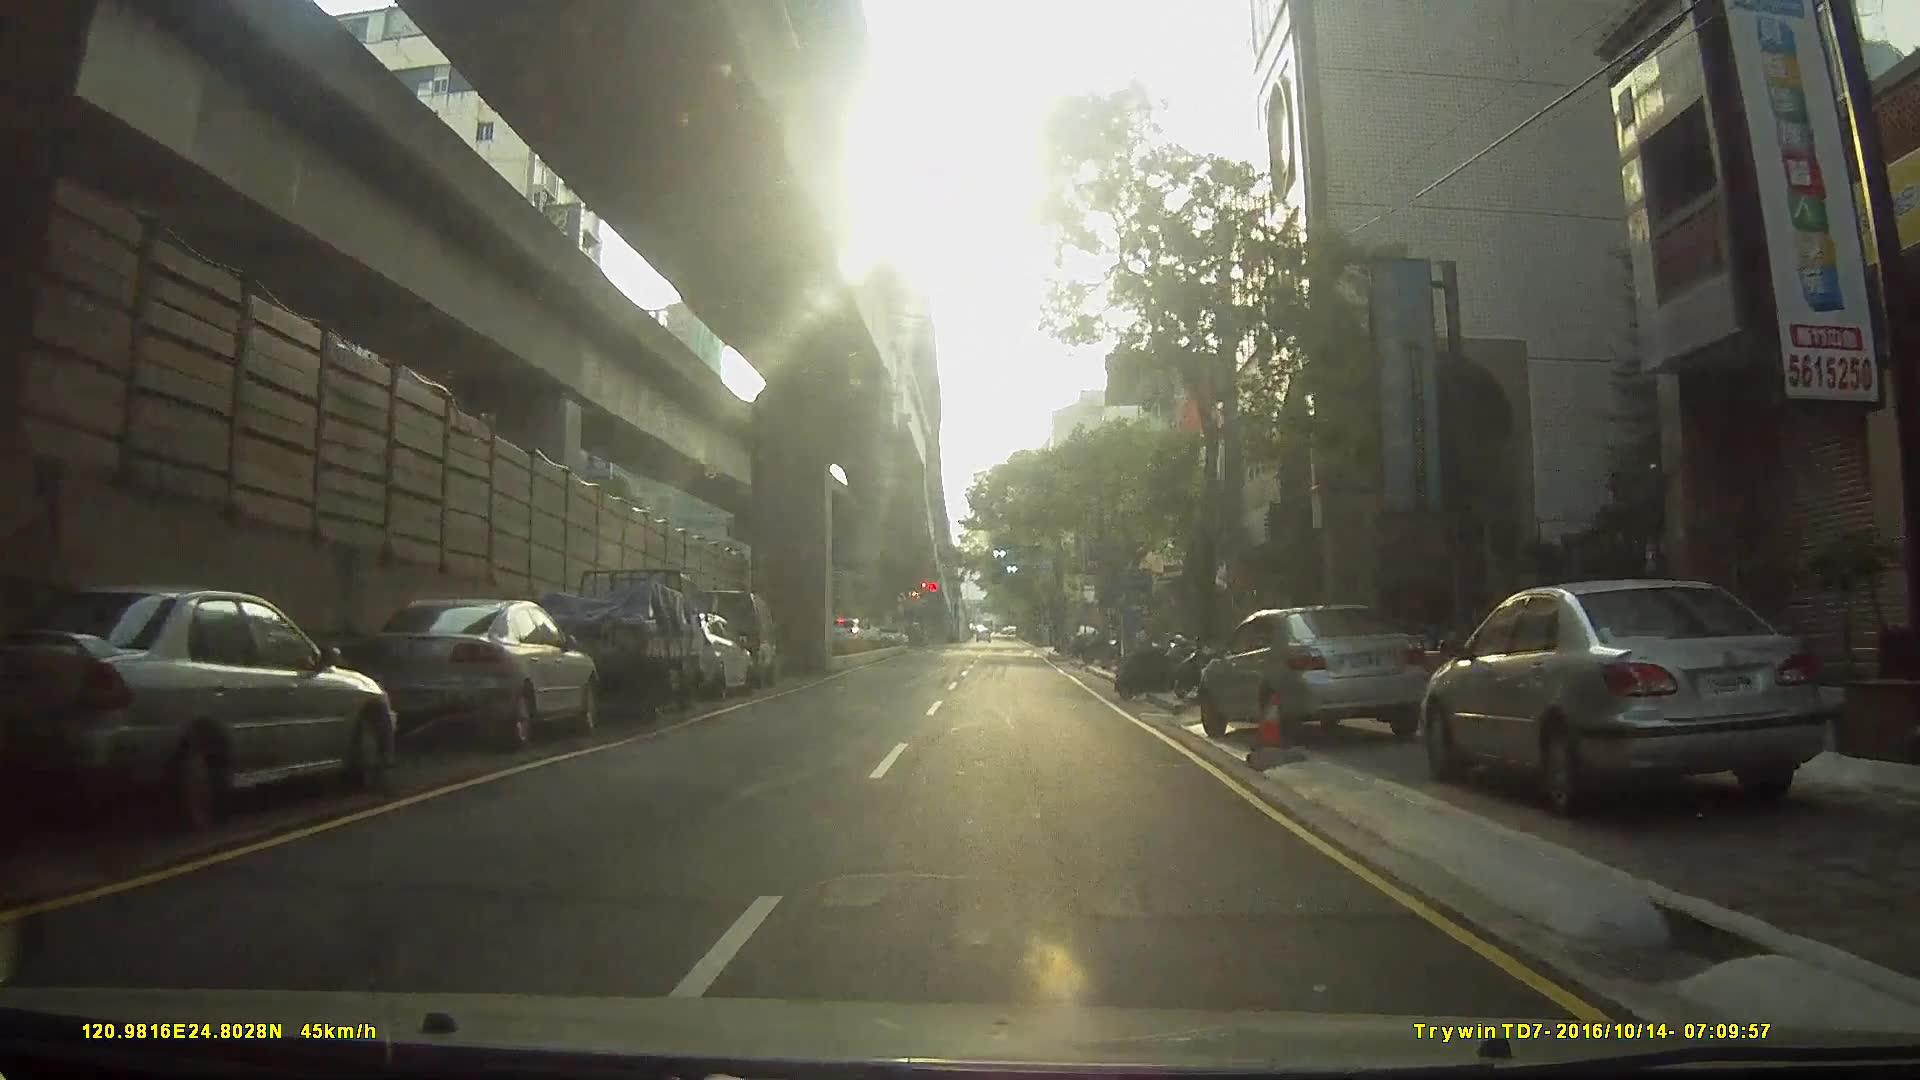rider: (1117, 623, 1192, 706)
vehicle: (1412, 572, 1844, 820), (1, 576, 406, 835), (321, 596, 601, 757), (1204, 600, 1446, 742), (526, 563, 700, 722), (646, 608, 755, 701), (821, 614, 874, 650)
